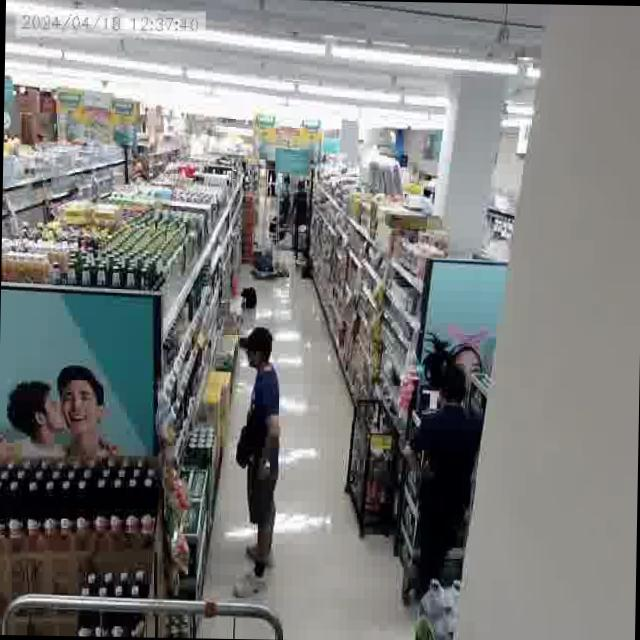shoplifting: (216, 314, 298, 612)
